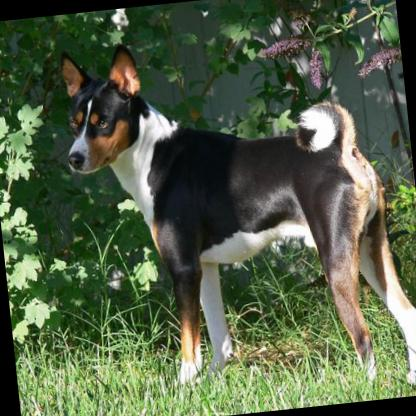basenji: (52, 15, 416, 416)
